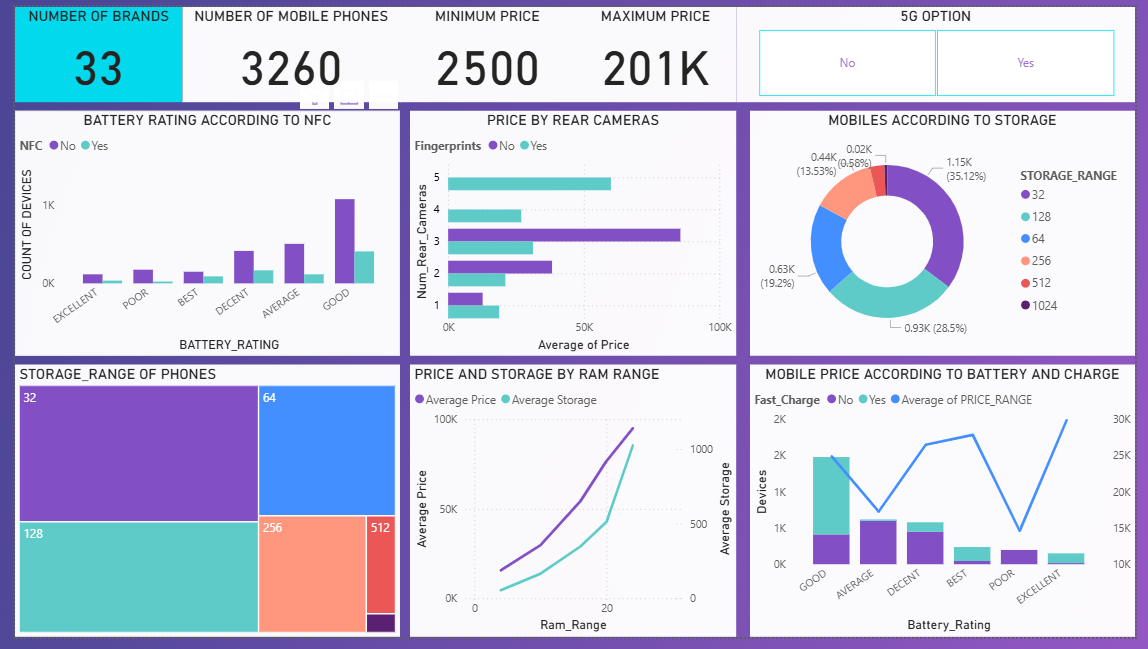

The page's visual inventory and layout, read from the dashboard file:
{"tool":"powerbi","page":{"name":"Page 1","canvas":[1280,720],"ordinal":0},"visuals":[{"type":"clusteredColumnChart","title":"BATTERY RATING ACCORDING TO NFC","fields":{"Category":["smartphones_data csv.BATTERY_RATING"],"Y":["Count(smartphones_data csv.Name)"],"Series":["smartphones_data csv.NFC"]},"box":[0,118.6,440,280],"z":0},{"type":"card","title":"NUMBER OF BRANDS ","fields":{"Values":["Count(smartphones_data csv.brand_name)"]},"box":[0,0,191.4,108.6],"z":1000},{"type":"card","title":"NUMBER OF MOBILE PHONES","fields":{"Values":["Count(smartphones_data csv.Name)"]},"box":[191.4,0,248.6,108.6],"z":2000},{"type":"slicer","title":"5G OPTION","fields":{"Values":["smartphones_data csv.5G"]},"box":[824.3,0,455.7,108.6],"z":3000},{"type":"card","title":"MINIMUM PRICE","fields":{"Values":["Min(smartphones_data csv.Price)"]},"box":[440,0,200,108.6],"z":4000},{"type":"card","title":"MAXIMUM PRICE","fields":{"Values":["Max(smartphones_data csv.Price)"]},"box":[640,0,184.3,108.6],"z":5000},{"type":"clusteredBarChart","title":"PRICE BY REAR CAMERAS","fields":{"Y":["Avg(smartphones_data csv.PRICE_RANGE)"],"Category":["smartphones_data csv.Num_Rear_Cameras"],"Series":["smartphones_data csv.FINGERPRINTS"]},"box":[451.4,118.6,372.9,280],"z":6000},{"type":"donutChart","title":"MOBILES ACCORDING TO STORAGE","fields":{"Y":["Count(smartphones_data csv.Name)"],"Category":["smartphones_data csv.STORAGE_RANGE"]},"box":[840,118.6,440,280],"z":7000},{"type":"treemap","title":" STORAGE_RANGE OF  PHONES ","fields":{"Values":["CountNonNull(smartphones_data csv.Name)"],"Group":["smartphones_data csv.STORAGE_RANGE"]},"box":[0,408.6,440,311.4],"z":8000},{"type":"lineChart","title":"PRICE AND STORAGE  BY RAM RANGE","fields":{"Y":["Avg(smartphones_data csv.PRICE_RANGE)"],"Y2":["Avg(smartphones_data csv.STORAGE_RANGE)"],"Category":["smartphones_data csv.RAM_RANGE "]},"box":[451,409,373,311],"z":10000},{"type":"lineStackedColumnComboChart","title":"MOBILE PRICE ACCORDING TO BATTERY AND CHARGE","fields":{"Category":["smartphones_data csv.BATTERY_RATING"],"Y2":["Avg(smartphones_data csv.PRICE_RANGE)"],"Y":["CountNonNull(smartphones_data csv.Name)"],"Series":["smartphones_data csv.has_fast_charging"]},"box":[840,409,440,311],"z":11000}]}

Visuals, with their boxes in screenshot pixels (x1, y1, x2, y2), scaled from the page's 1280x720 canvas onto the 1148x649 screenshot:
"BATTERY RATING ACCORDING TO NFC" clusteredColumnChart: bbox(0, 107, 395, 359)
"NUMBER OF BRANDS " card: bbox(0, 0, 172, 98)
"NUMBER OF MOBILE PHONES" card: bbox(172, 0, 395, 98)
"5G OPTION" slicer: bbox(739, 0, 1147, 98)
"MINIMUM PRICE" card: bbox(395, 0, 574, 98)
"MAXIMUM PRICE" card: bbox(574, 0, 739, 98)
"PRICE BY REAR CAMERAS" clusteredBarChart: bbox(405, 107, 739, 359)
"MOBILES ACCORDING TO STORAGE" donutChart: bbox(753, 107, 1147, 359)
" STORAGE_RANGE OF  PHONES " treemap: bbox(0, 368, 395, 648)
"PRICE AND STORAGE  BY RAM RANGE" lineChart: bbox(404, 369, 739, 648)
"MOBILE PRICE ACCORDING TO BATTERY AND CHARGE" lineStackedColumnComboChart: bbox(753, 369, 1147, 648)
